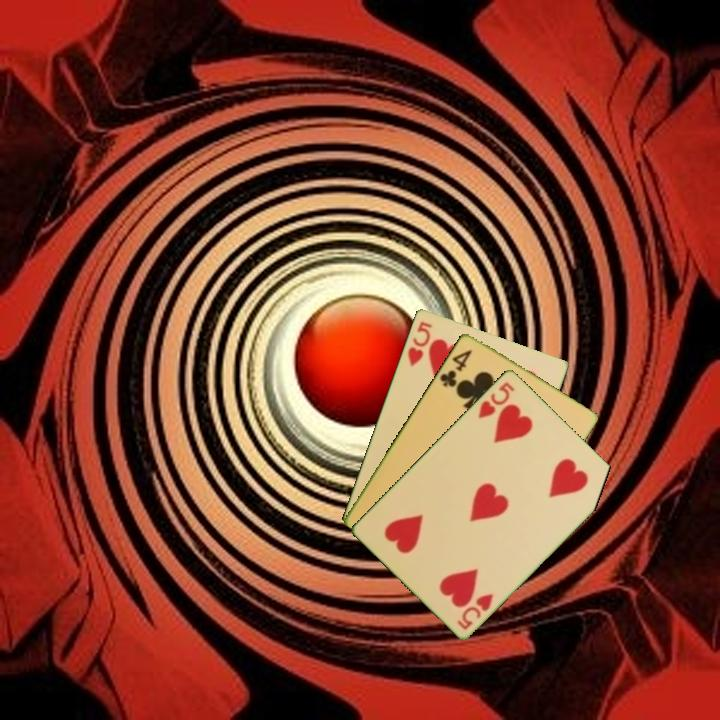4c: (436, 345, 475, 390)
5h: (474, 377, 518, 421), (453, 589, 496, 632), (404, 317, 435, 369)
